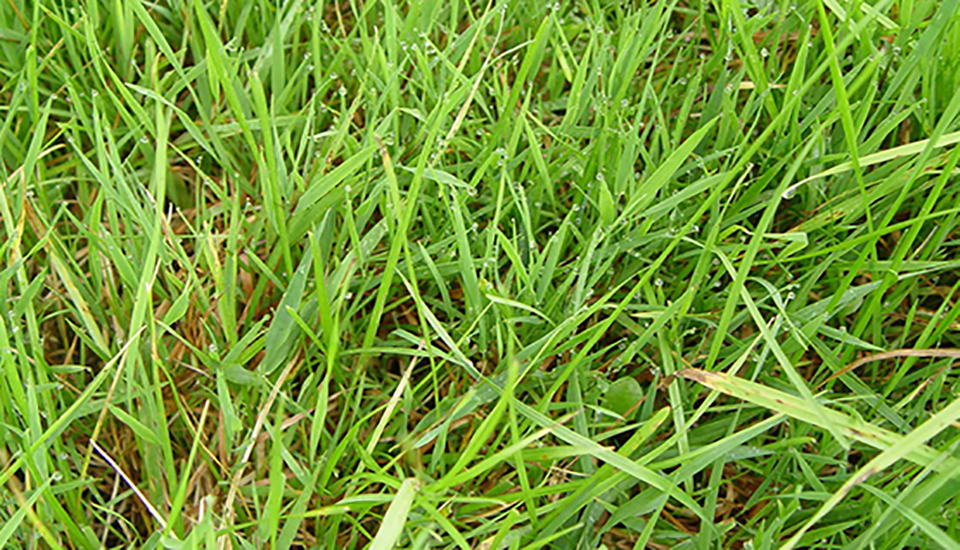crabgrass: (115, 124, 824, 545)
